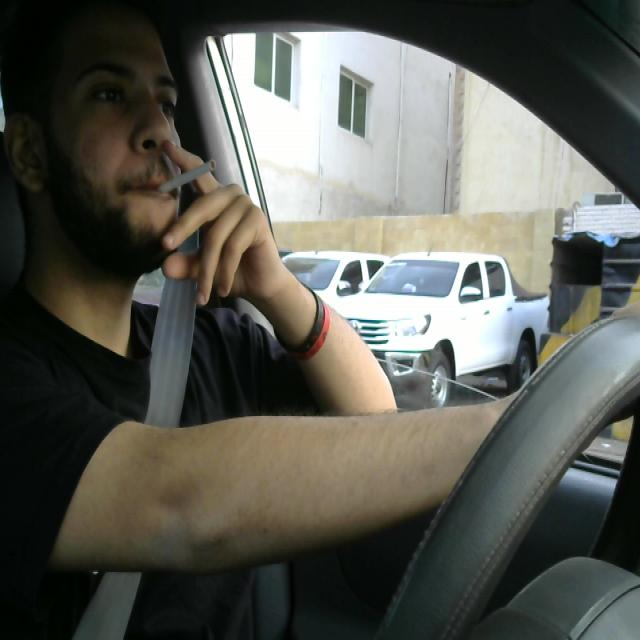smoking: (159, 154, 215, 202)
